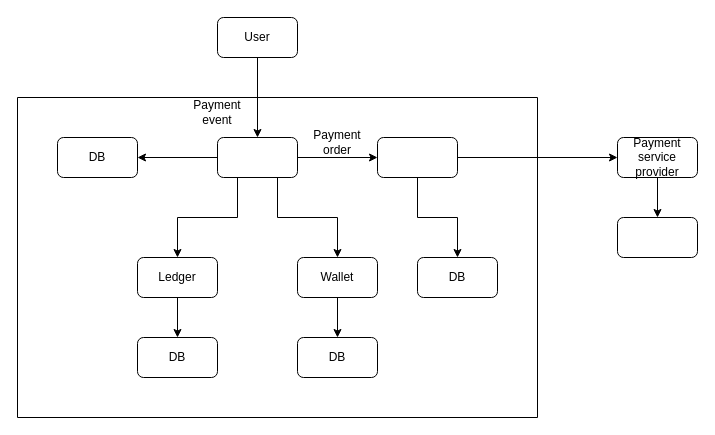
This 715x435 diagram has some shape labels left out. Each missing label, with the centre of its shape:
"Card schemes" goes at [657,237].
"Payment executor" goes at [417,157].
"Payment service" goes at [257,157].
